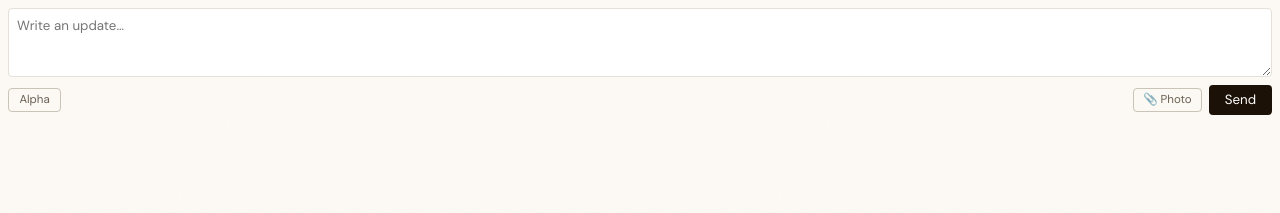
Scenario: ComposeBox — per-circle body variants › renders a custom variant textarea after selecting a circle AND clicking ALT
# Select the circle to make the ALT button appear
Click the button "Alpha".
click(35, 100)  # box [9,89,60,111]
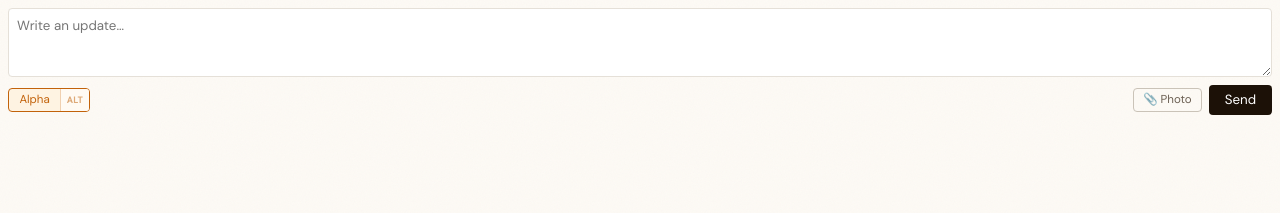
# Click the ALT button to enable the custom variant
Click the button titled "Custom message for Alpha".
click(74, 100)  # box [60,89,89,111]
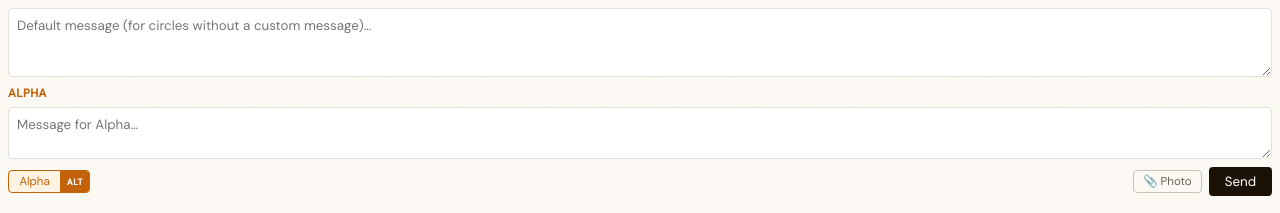
Check: the number of text boxes is 2, box [8,8,1272,77]; [8,107,1272,159]
